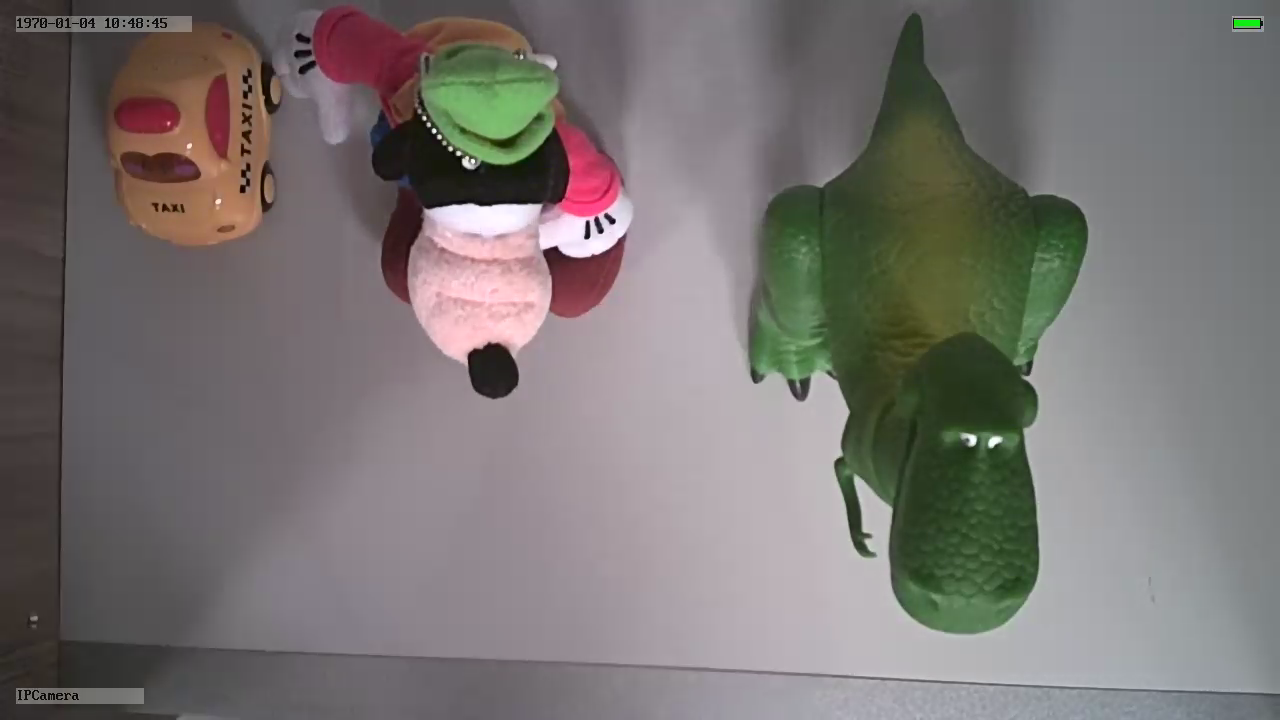goofy: (274, 12, 635, 402)
